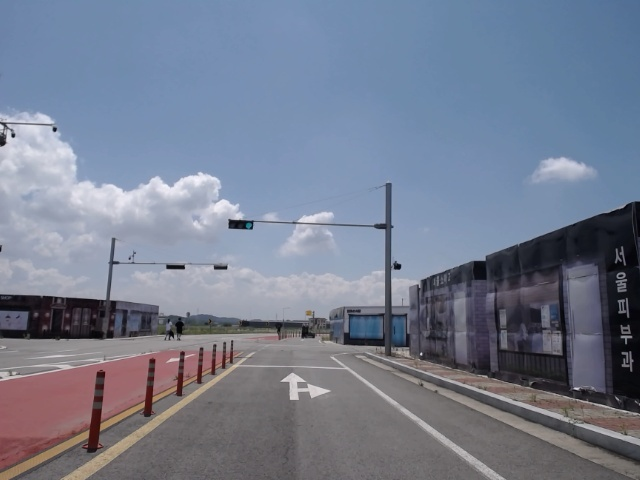green_3: (229, 219, 254, 229)
